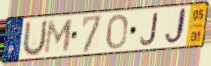7: (80, 14, 103, 54)
J: (163, 6, 189, 48), (139, 11, 159, 47)
M: (42, 18, 75, 55)
O: (105, 13, 129, 51)
U: (20, 18, 49, 59)
